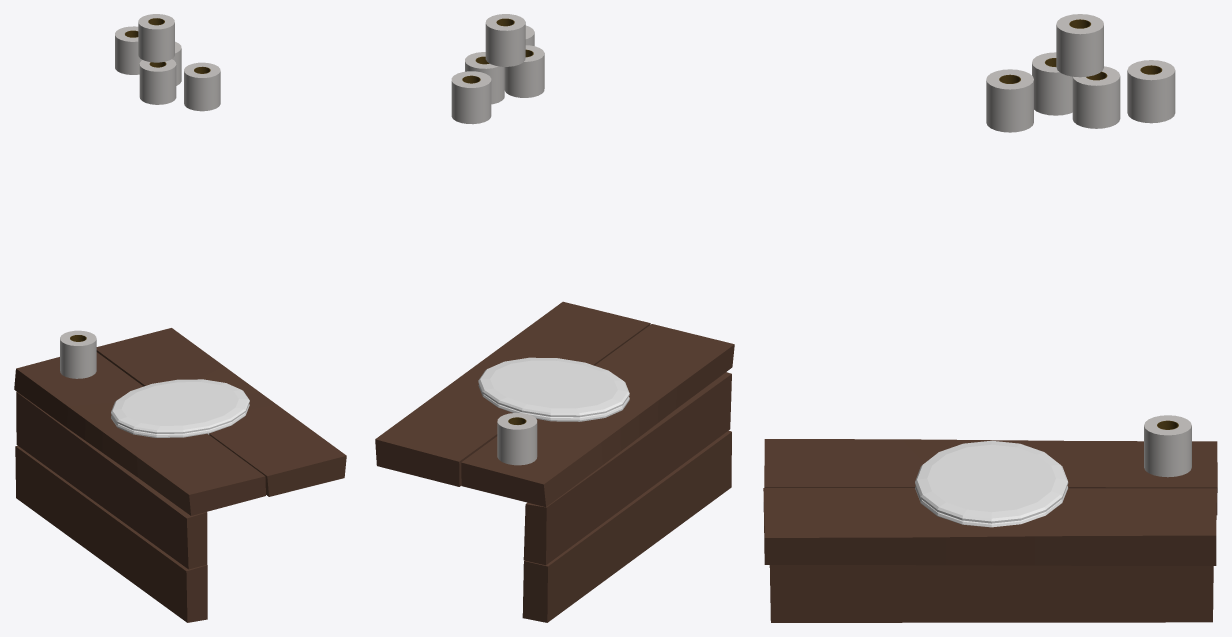
Rendered from toilet.glb.
3 views of the same model, side by side, from view 1: azimuth 30°, elevation 25°; view 2: azimuth 150°, elevation 25°; view 3: azimuth 270°, elevation 25° (orthographic). The views are drawn at different scales.
Visible parts, largest first — view 1: toilet.002, toilet.001, toilet paper.004, toilet paper.003, toilet paper.005, toilet paper.002, toilet paper; view 2: toilet.002, toilet.001, toilet paper, toilet paper.003, toilet paper.005, toilet paper.002, toilet paper.001; view 3: toilet.002, toilet.001, toilet paper, toilet paper.004, toilet paper.003, toilet paper.005, toilet paper.001, toilet paper.002.
Boxes of the visible parts, <box> form: toilet.002: <box>14,328,346,622</box>; toilet.001: <box>111,379,249,437</box>; toilet paper.004: <box>184,62,220,111</box>; toilet paper.003: <box>138,14,174,62</box>; toilet paper.005: <box>60,330,96,378</box>; toilet paper.002: <box>139,59,176,104</box>; toilet paper: <box>115,26,142,74</box>; toilet.002: <box>375,301,734,622</box>; toilet.001: <box>478,357,629,421</box>; toilet paper: <box>451,71,491,124</box>; toilet paper.003: <box>485,14,525,66</box>; toilet paper.005: <box>497,413,537,465</box>; toilet paper.002: <box>504,45,544,97</box>; toilet paper.001: <box>465,52,504,104</box>; toilet.002: <box>763,439,1217,622</box>; toilet.001: <box>915,440,1068,527</box>; toilet paper: <box>1127,60,1175,123</box>; toilet paper.004: <box>986,69,1033,132</box>; toilet paper.003: <box>1056,14,1103,77</box>; toilet paper.005: <box>1144,415,1191,477</box>; toilet paper.001: <box>1072,66,1120,128</box>; toilet paper.002: <box>1032,52,1072,115</box>.
Bounding box in the file's own units: 0.6401 × 1.9 × 1.22.
